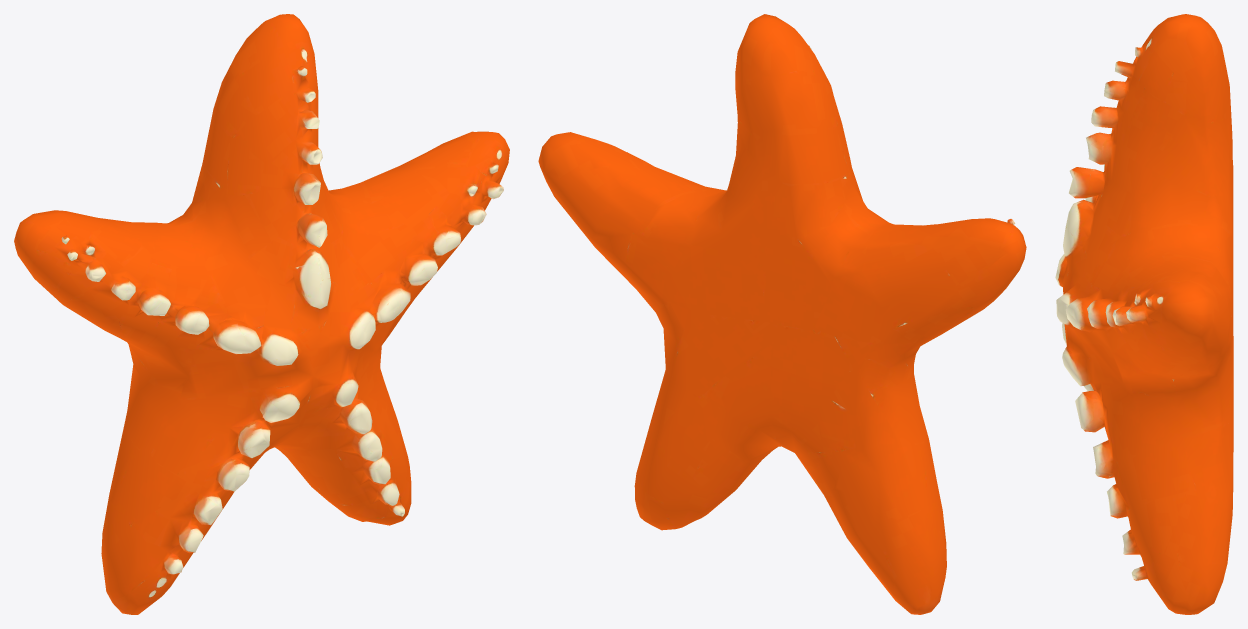
Rendered from starfish_decor.glb.
The picture shows the model from 3 angles, left to right: view 1: azimuth 30°, elevation 25°; view 2: azimuth 150°, elevation 25°; view 3: azimuth 270°, elevation 25°; orthographic projection. The views are drawn at different scales.
Bounding box in the file's own units: 1.73 × 1.89 × 0.5353.
Materials: 1 (1 with a texture image).
